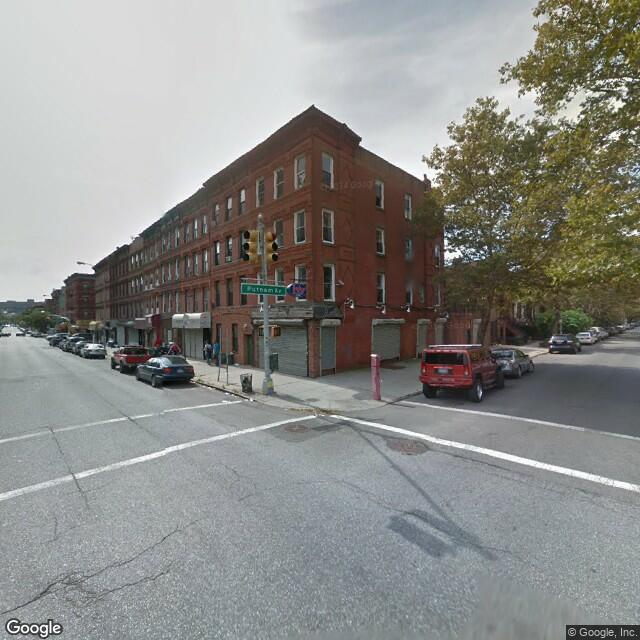litter: (215, 388, 262, 410)
